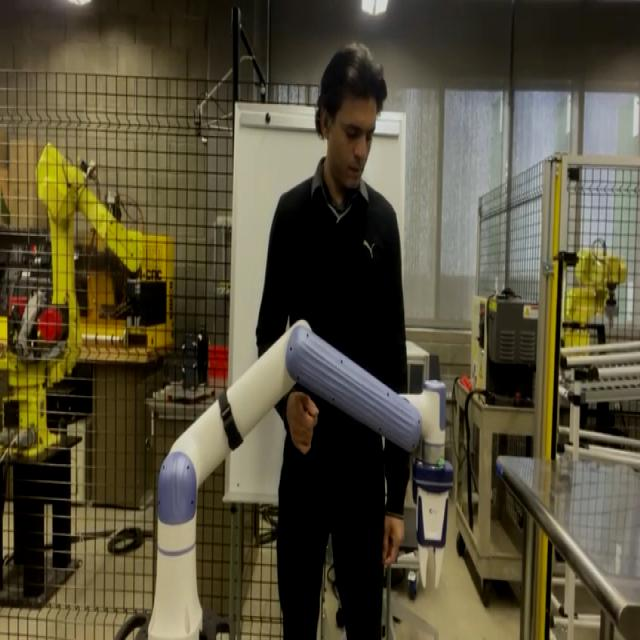robot: (114, 316, 442, 637)
